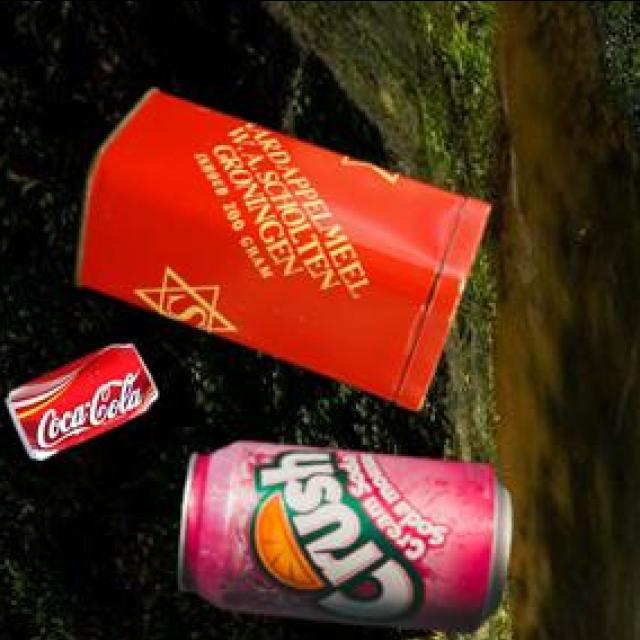logam: (78, 82, 495, 407), (181, 436, 515, 628), (10, 339, 161, 454)
